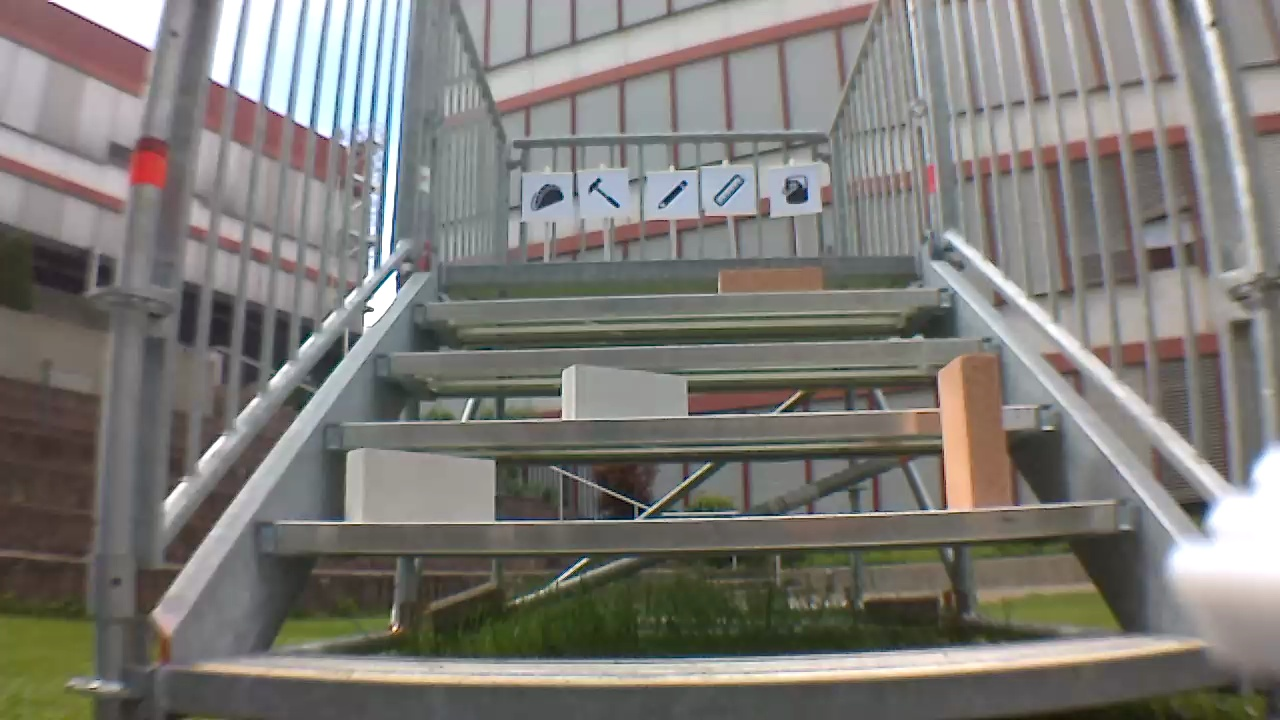brick: (938, 353, 1009, 508), (347, 451, 495, 522), (562, 365, 688, 418), (720, 267, 822, 292)
bucket: (775, 172, 809, 208)
edge: (165, 647, 1229, 717), (262, 501, 1140, 553), (327, 405, 1059, 441), (375, 339, 1006, 370), (412, 288, 959, 319), (439, 256, 917, 284)
hammer: (583, 174, 623, 211)
pencil: (651, 178, 691, 215)
ruler: (706, 171, 747, 213)
stairs: (99, 2, 1263, 717)
steps: (152, 251, 1245, 718)
taco: (524, 179, 566, 213)
